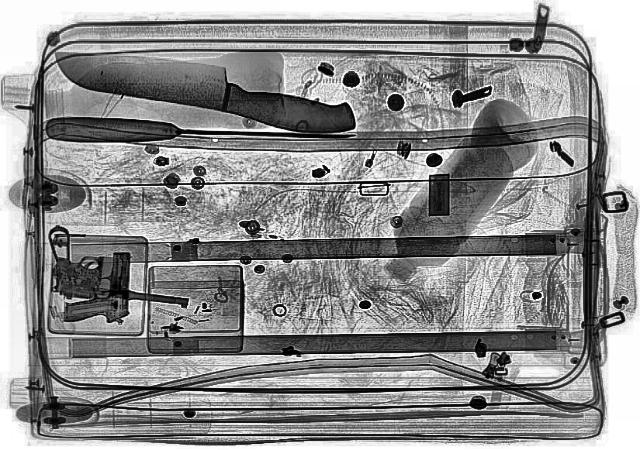Gun: (38, 246, 214, 326), (56, 244, 154, 334)
Knife: (36, 27, 370, 151), (47, 118, 356, 146)
